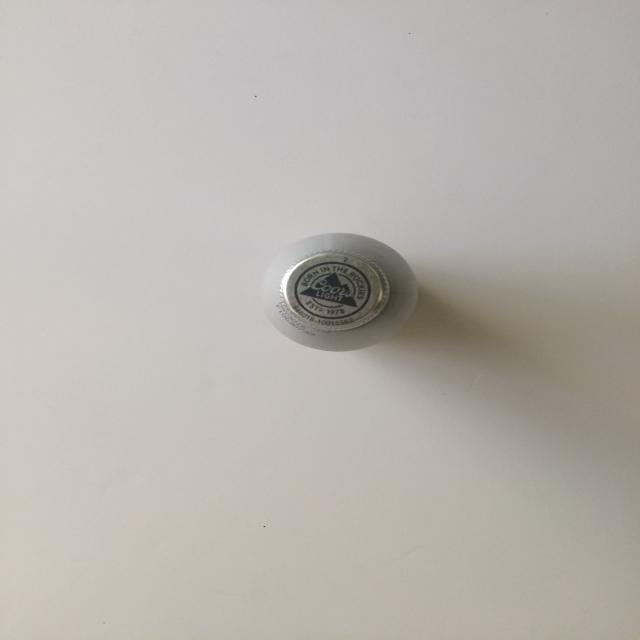metal: (255, 232, 422, 354)
